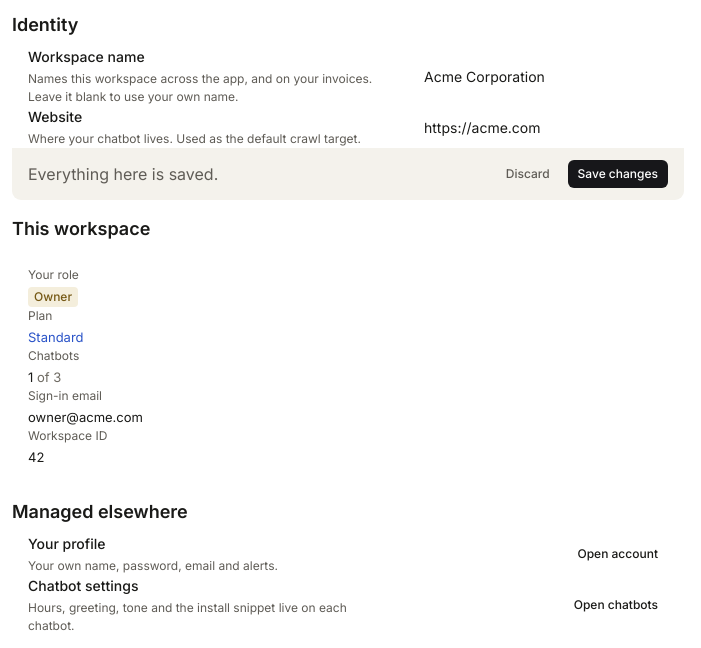
Scenario: GeneralPage — unsaved changes are visible and recoverable › discards back to the server’s copy without a request
In the field labelled "Workspace name": (540, 76) [412,59,668,93], type " Ltd"
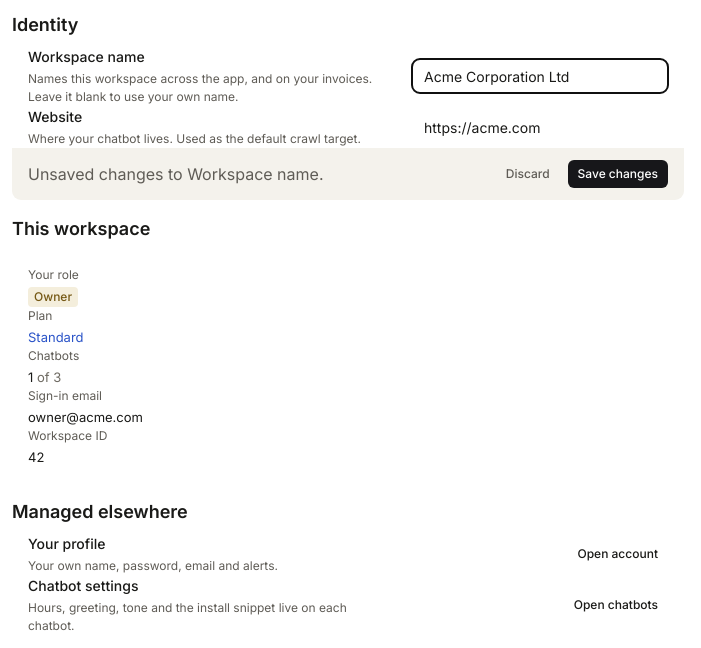
Click the button "Discard": (528, 174) [496,160,560,188]
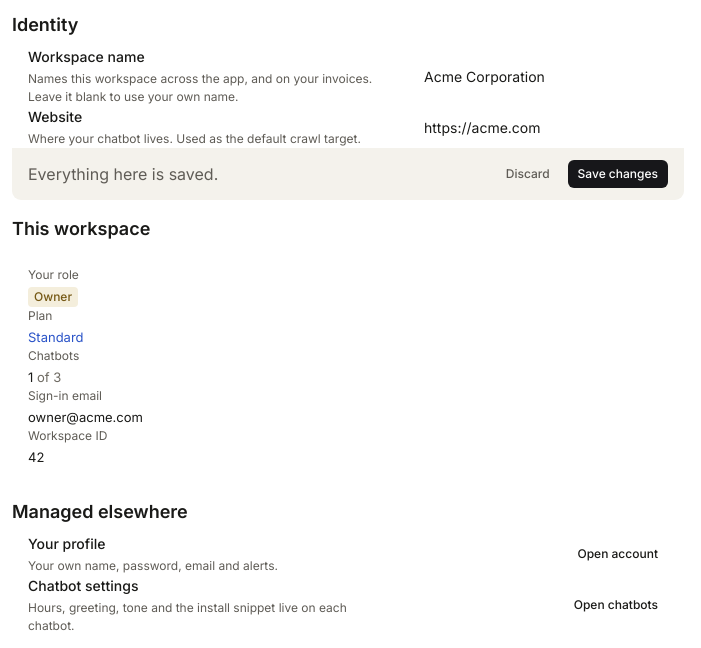
Check: the field labelled "Workspace name" holds "Acme Corporation", box [412,59,668,93]
Check: the text "Everything here is saved." is shown, box [28,164,218,184]
